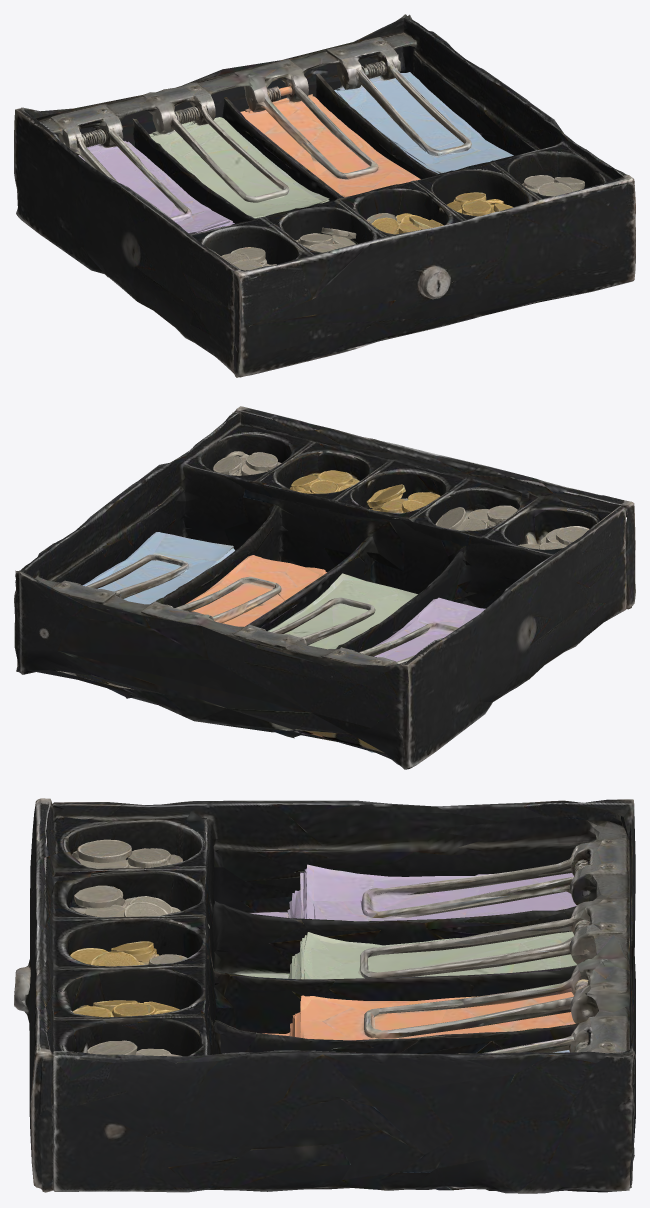
Rendered from e4till.glb.
The picture shows the model from 3 angles, top to bottom: view 1: azimuth 30°, elevation 25°; view 2: azimuth 150°, elevation 25°; view 3: azimuth 270°, elevation 25°; orthographic projection. The views are drawn at different scales.
Parts seen in each view (by area): view 1: output_unwrapped; view 2: output_unwrapped; view 3: output_unwrapped.
Part boxes in pixels (box(x1,y1,x2,y2)): output_unwrapped: box(14, 14, 635, 377); output_unwrapped: box(14, 406, 635, 769); output_unwrapped: box(14, 798, 635, 1193).
Bounding box in the file's own units: 0.42 × 0.1085 × 0.4272.
Materials: 1 (1 with a texture image).
